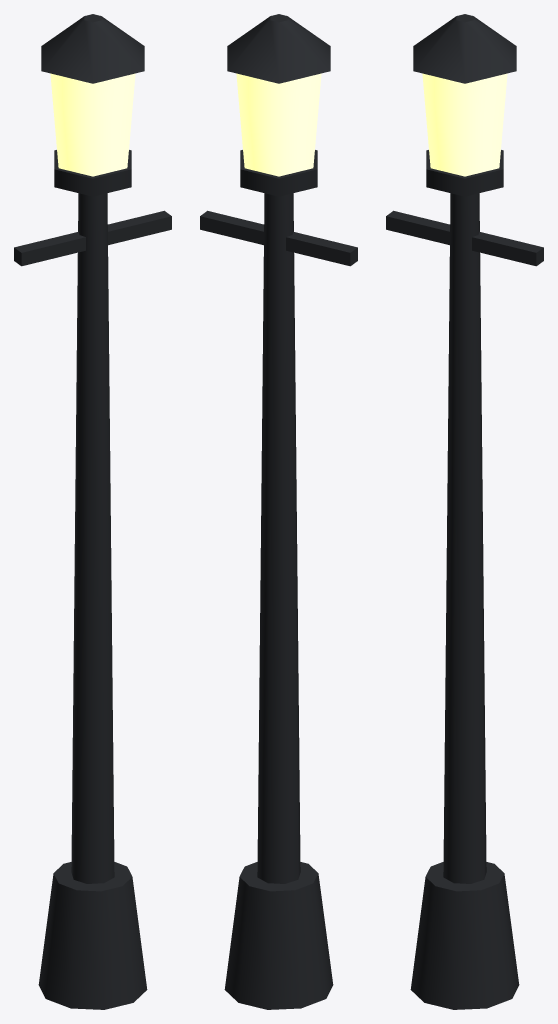
The model's file is hb_lamp_post.glb.
3 renders of one model, left to right at view 1: azimuth 30°, elevation 25°; view 2: azimuth 150°, elevation 25°; view 3: azimuth 330°, elevation 25°, orthographic.
Visible parts, largest first — view 1: hb_lamp_post; view 2: hb_lamp_post; view 3: hb_lamp_post.
Boxes of the visible parts, box(x1,y1,x2,y2) form: hb_lamp_post: box(14, 14, 171, 1009); hb_lamp_post: box(200, 14, 357, 1009); hb_lamp_post: box(386, 14, 543, 1009).
Size of the model in its own units: 0.7 by 4.31 by 0.4184.
